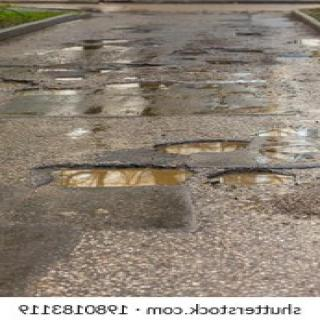pothole: (48, 167, 192, 188), (206, 169, 294, 188), (155, 141, 249, 154)
